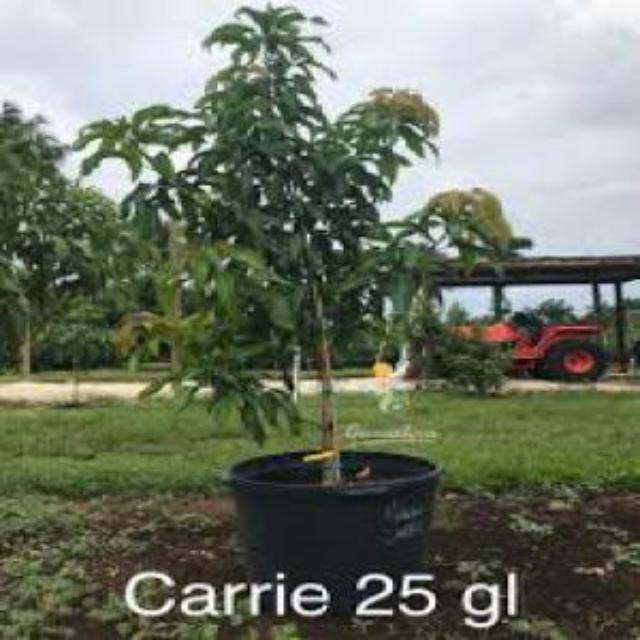tree: (66, 1, 518, 594)
